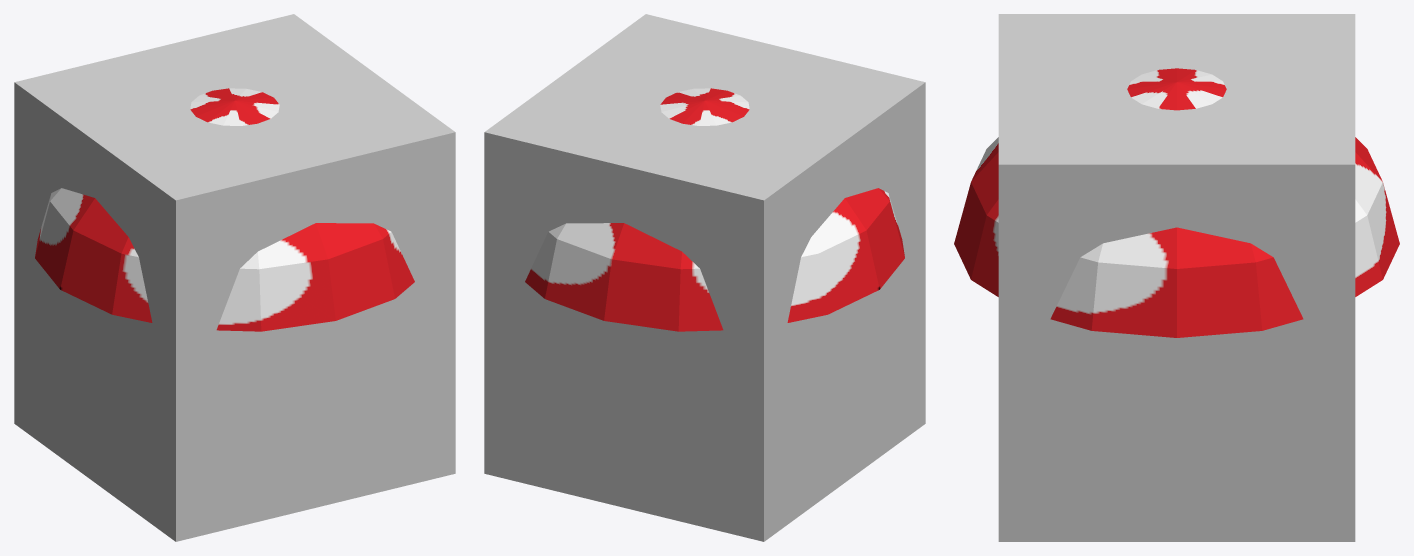
Rendered from normalEnemy.gltf.
3 renders of one model, left to right at view 1: azimuth 30°, elevation 25°; view 2: azimuth 150°, elevation 25°; view 3: azimuth 270°, elevation 25°, orthographic. The views are drawn at different scales.
Parts seen in each view (by area): view 1: COL, 球; view 2: COL, 球; view 3: COL, 球.
Boxes of the visible parts, x1=… form: COL: x1=14, y1=14, x2=455, y2=541; 球: x1=35, y1=88, x2=414, y2=331; COL: x1=484, y1=14, x2=925, y2=541; 球: x1=525, y1=88, x2=904, y2=331; COL: x1=998, y1=14, x2=1355, y2=541; 球: x1=954, y1=68, x2=1399, y2=337.
Bounding box in the file's own units: 3 × 2.85 × 3.
3 materials, 2 textured.
